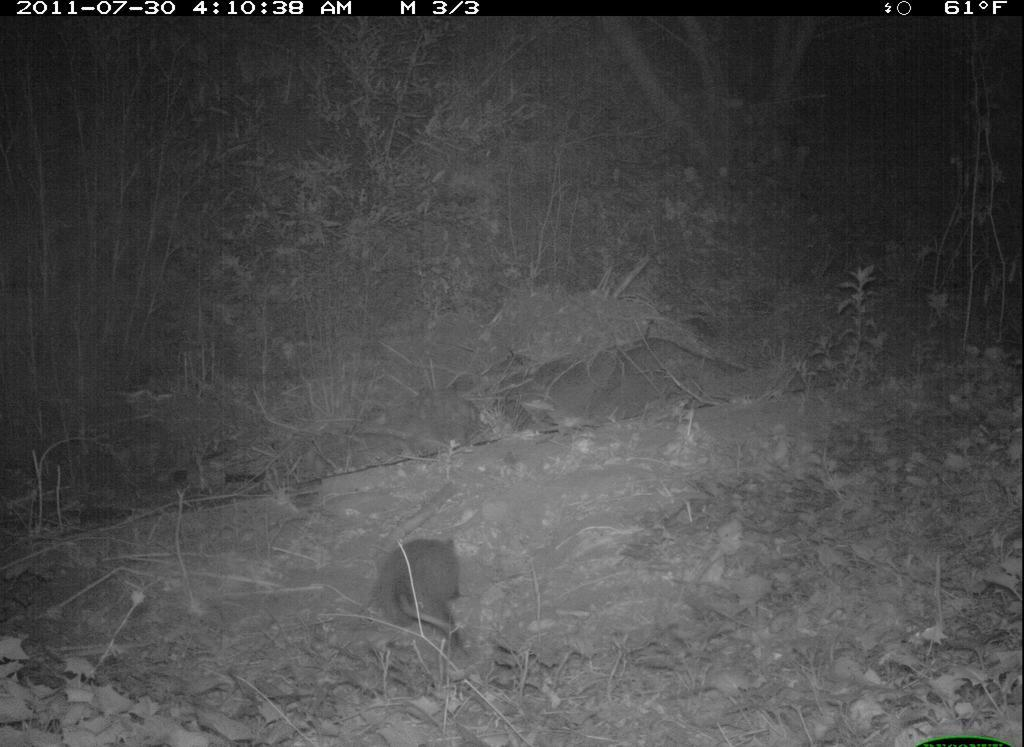opossum: (376, 523, 465, 646)
